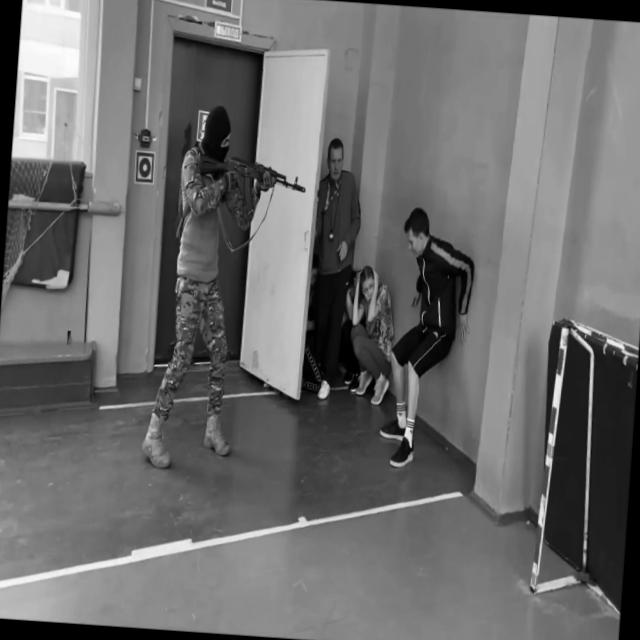gun: (194, 147, 310, 225)
person: (376, 204, 480, 473), (304, 136, 368, 403), (346, 262, 399, 404)
person with a gun: (140, 100, 312, 478)
